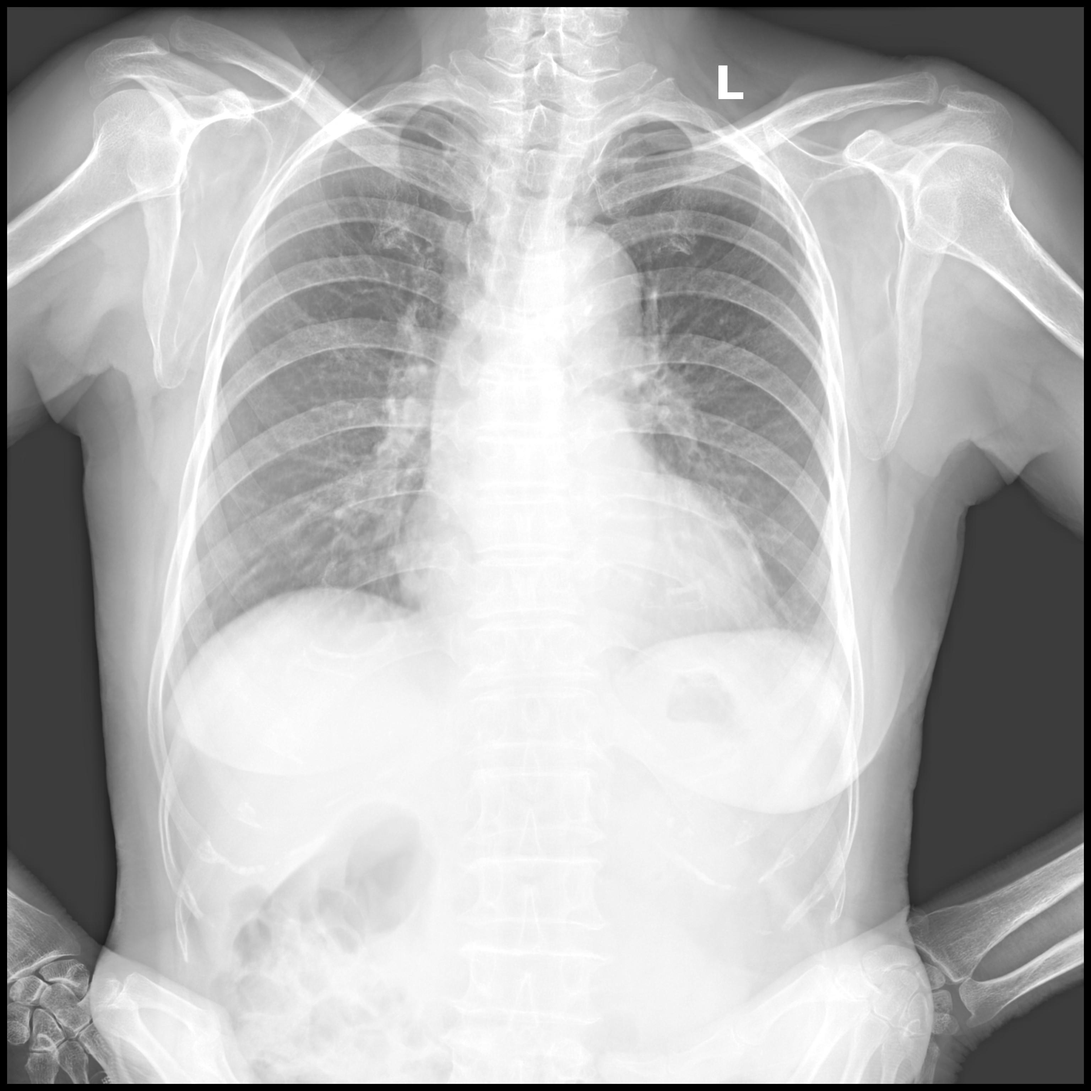Aortic enlargement: (531, 227, 650, 367)
Cardiomegaly: (396, 498, 782, 640)
